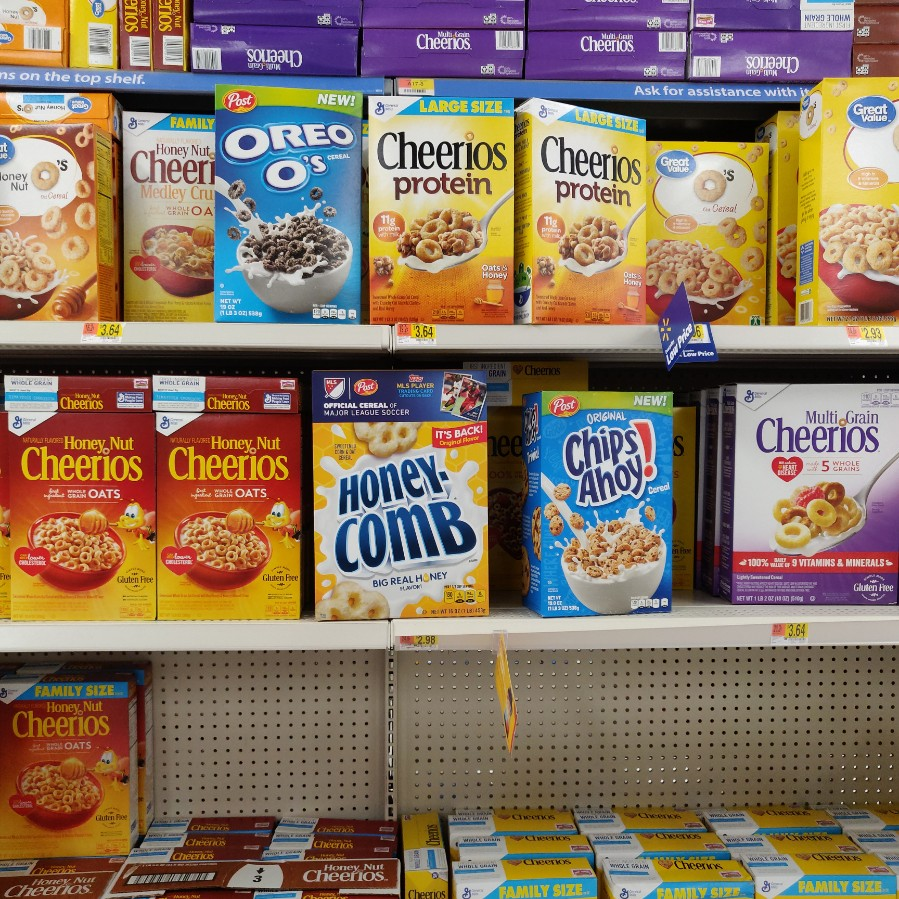Chips Ahoys-565717529: (528, 390, 674, 616)
Honey Comb- 009288857: (310, 365, 494, 618)
Oreo-563424384: (210, 83, 366, 319)
